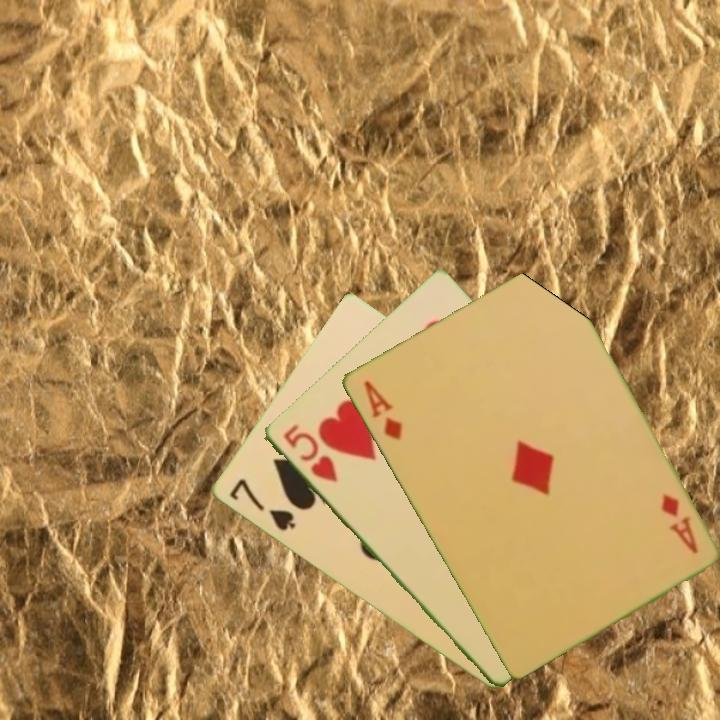5h: (279, 420, 340, 485)
7s: (225, 475, 299, 534)
Ad: (359, 376, 405, 444), (657, 490, 701, 557)
